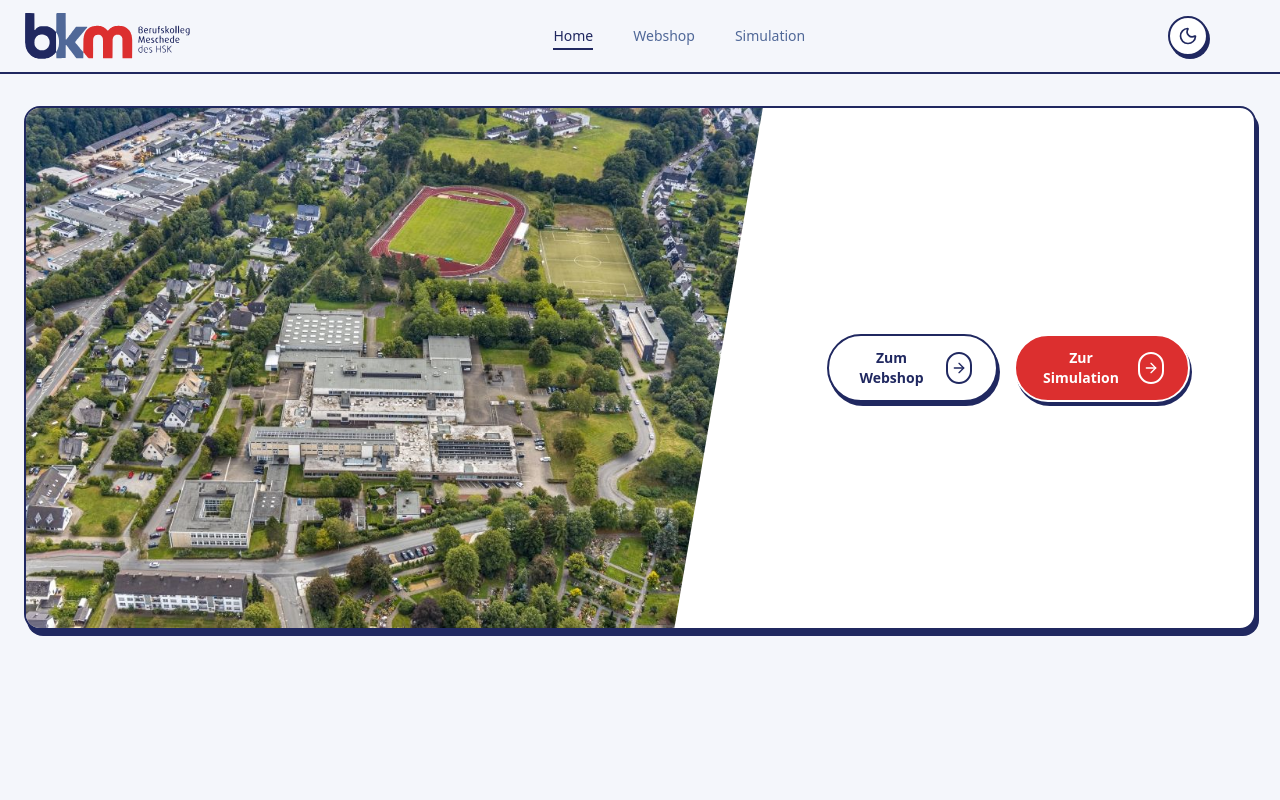
Test case: App › sends the stored API key with article requests
The image size is (1280, 800).
Click the button "Webshop".
click(664, 36)  # box [633,26,695,46]
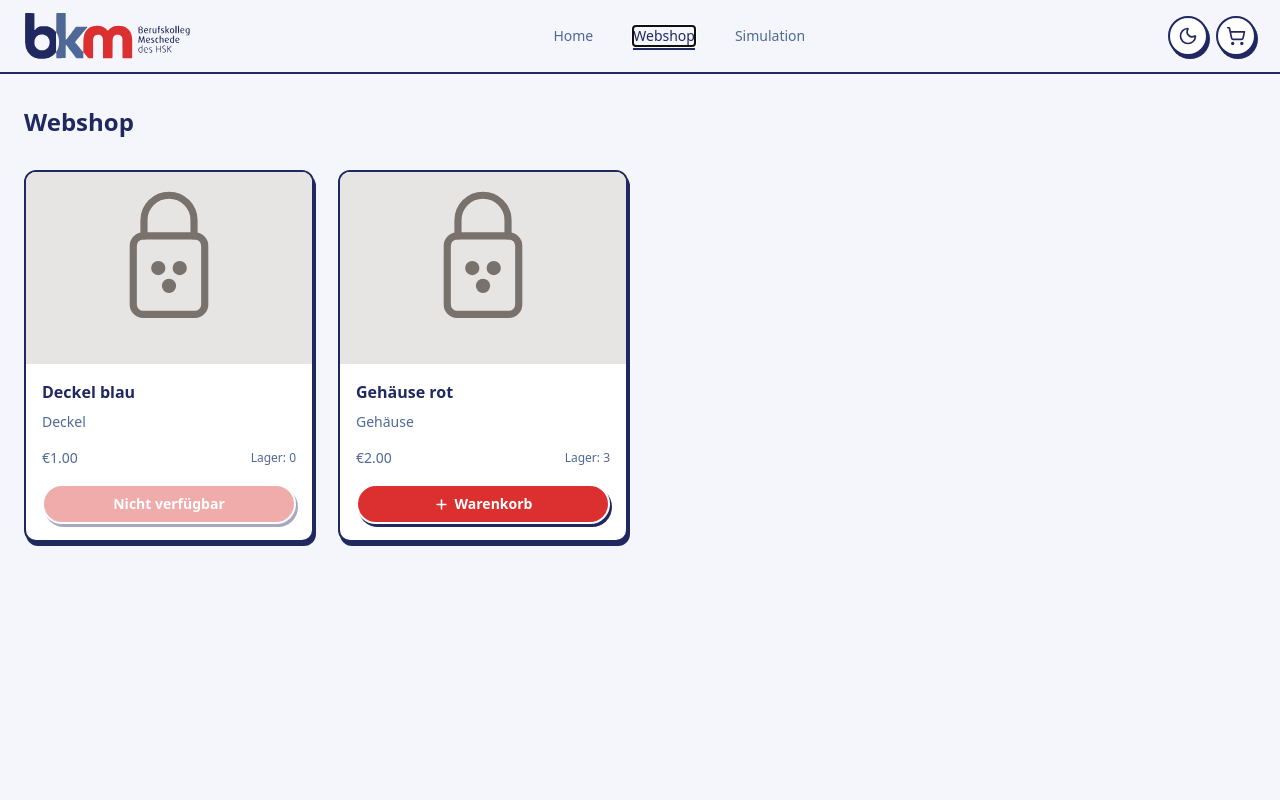
Expected: the heading "Gehäuse rot" is shown, [356,381,453,403]
